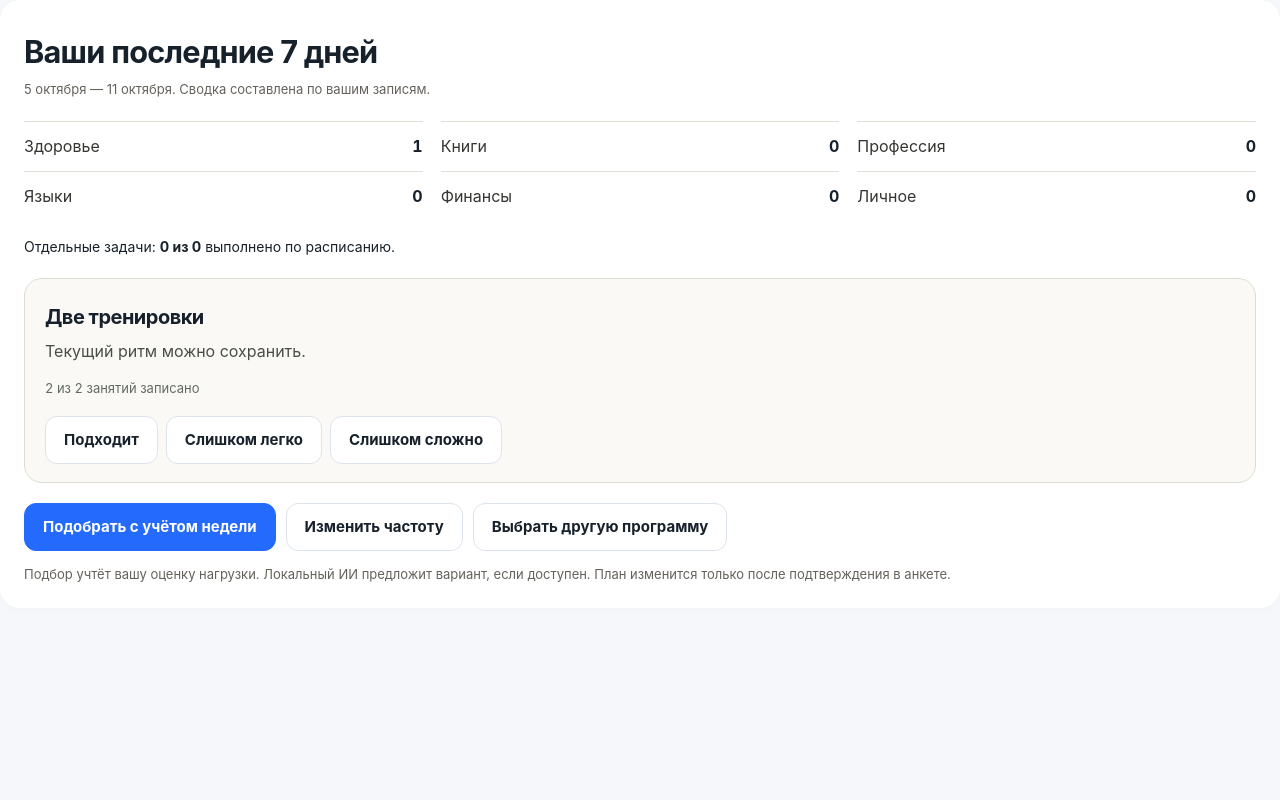
training feedback failure keeps the review open and reports the error
Click the button "Слишком сложно": coordinates (416, 440) x1=330 y1=416 x2=502 y2=464
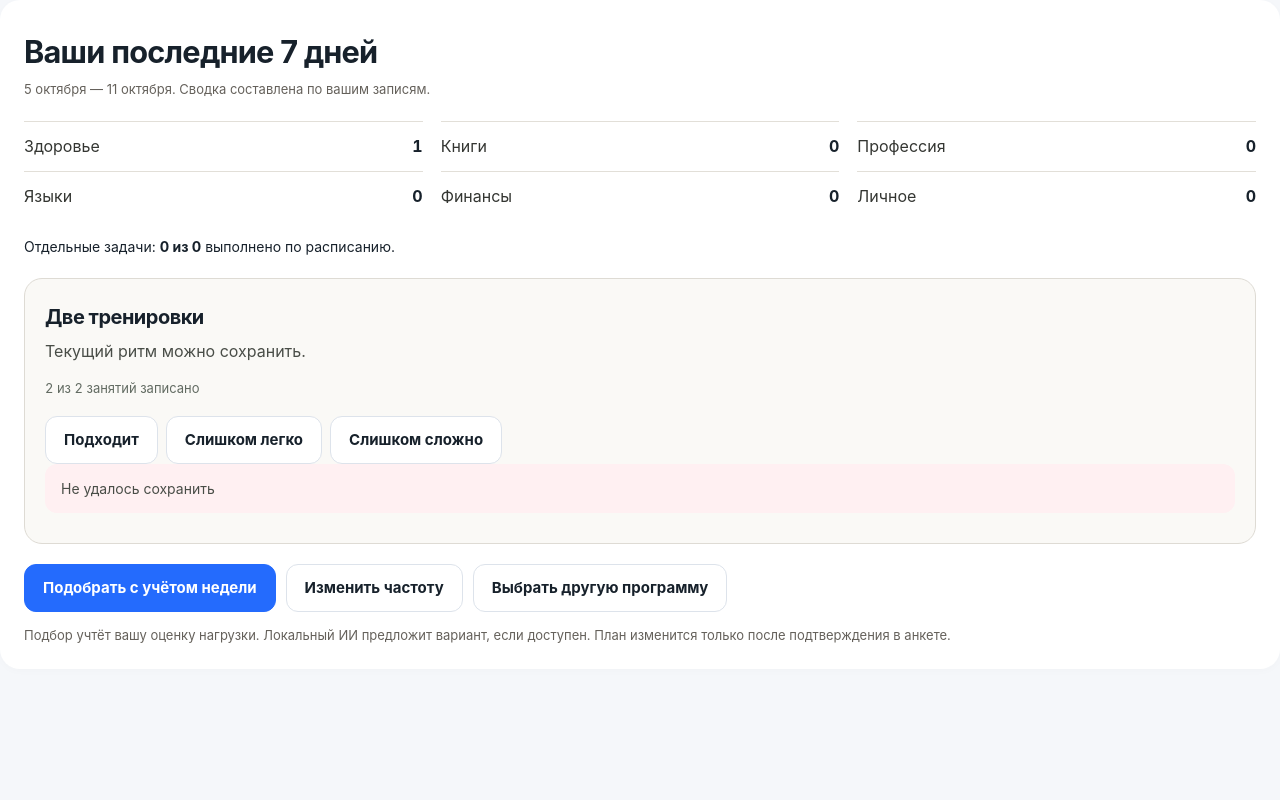
Expected: the message reads "Не удалось сохранить", x1=61 y1=480 x2=215 y2=497
